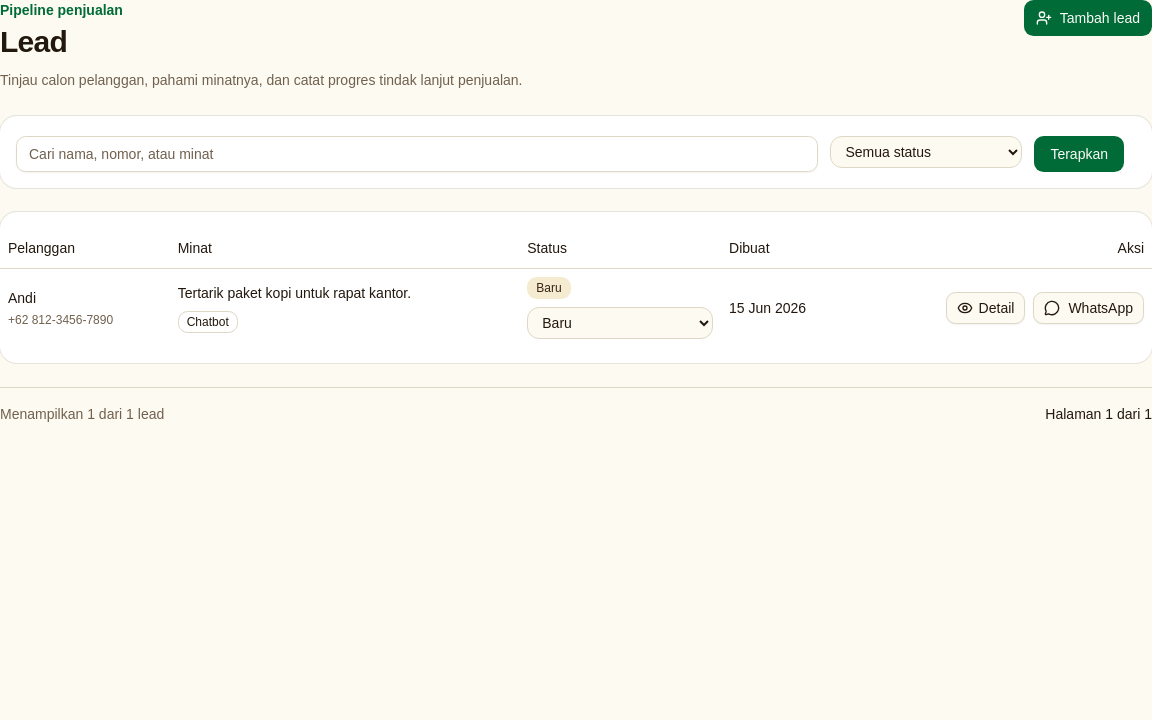
LeadsPage › shows authorized conversation context without rendering the raw session ID
The image size is (1152, 720).
Click the button "Detail": (986, 308) [946, 292, 1025, 324]
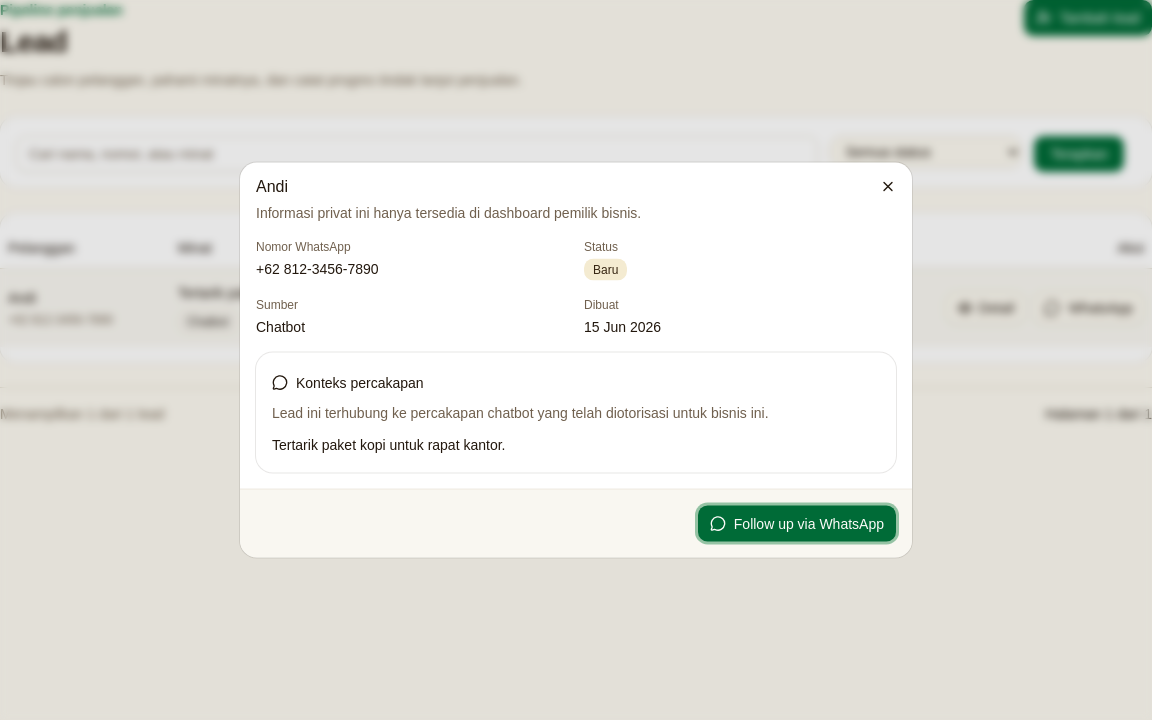
Result: the text "Konteks percakapan" is shown at [272, 374, 424, 390]
Result: the text "terhubung ke percakapan chatbot yang telah diotorisasi" is shown at [272, 404, 769, 420]
